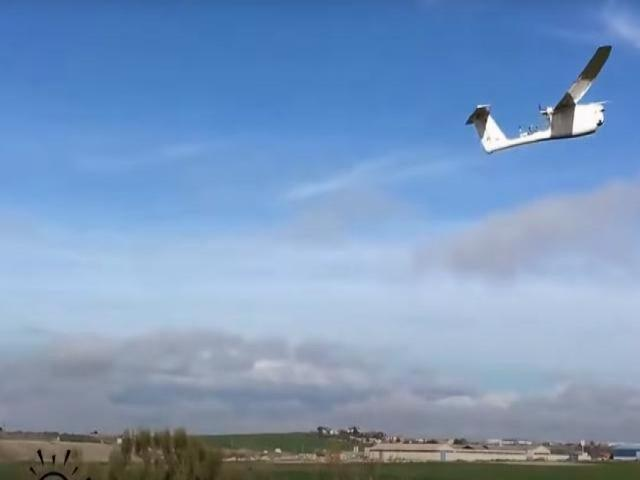iha: (460, 41, 623, 163)
